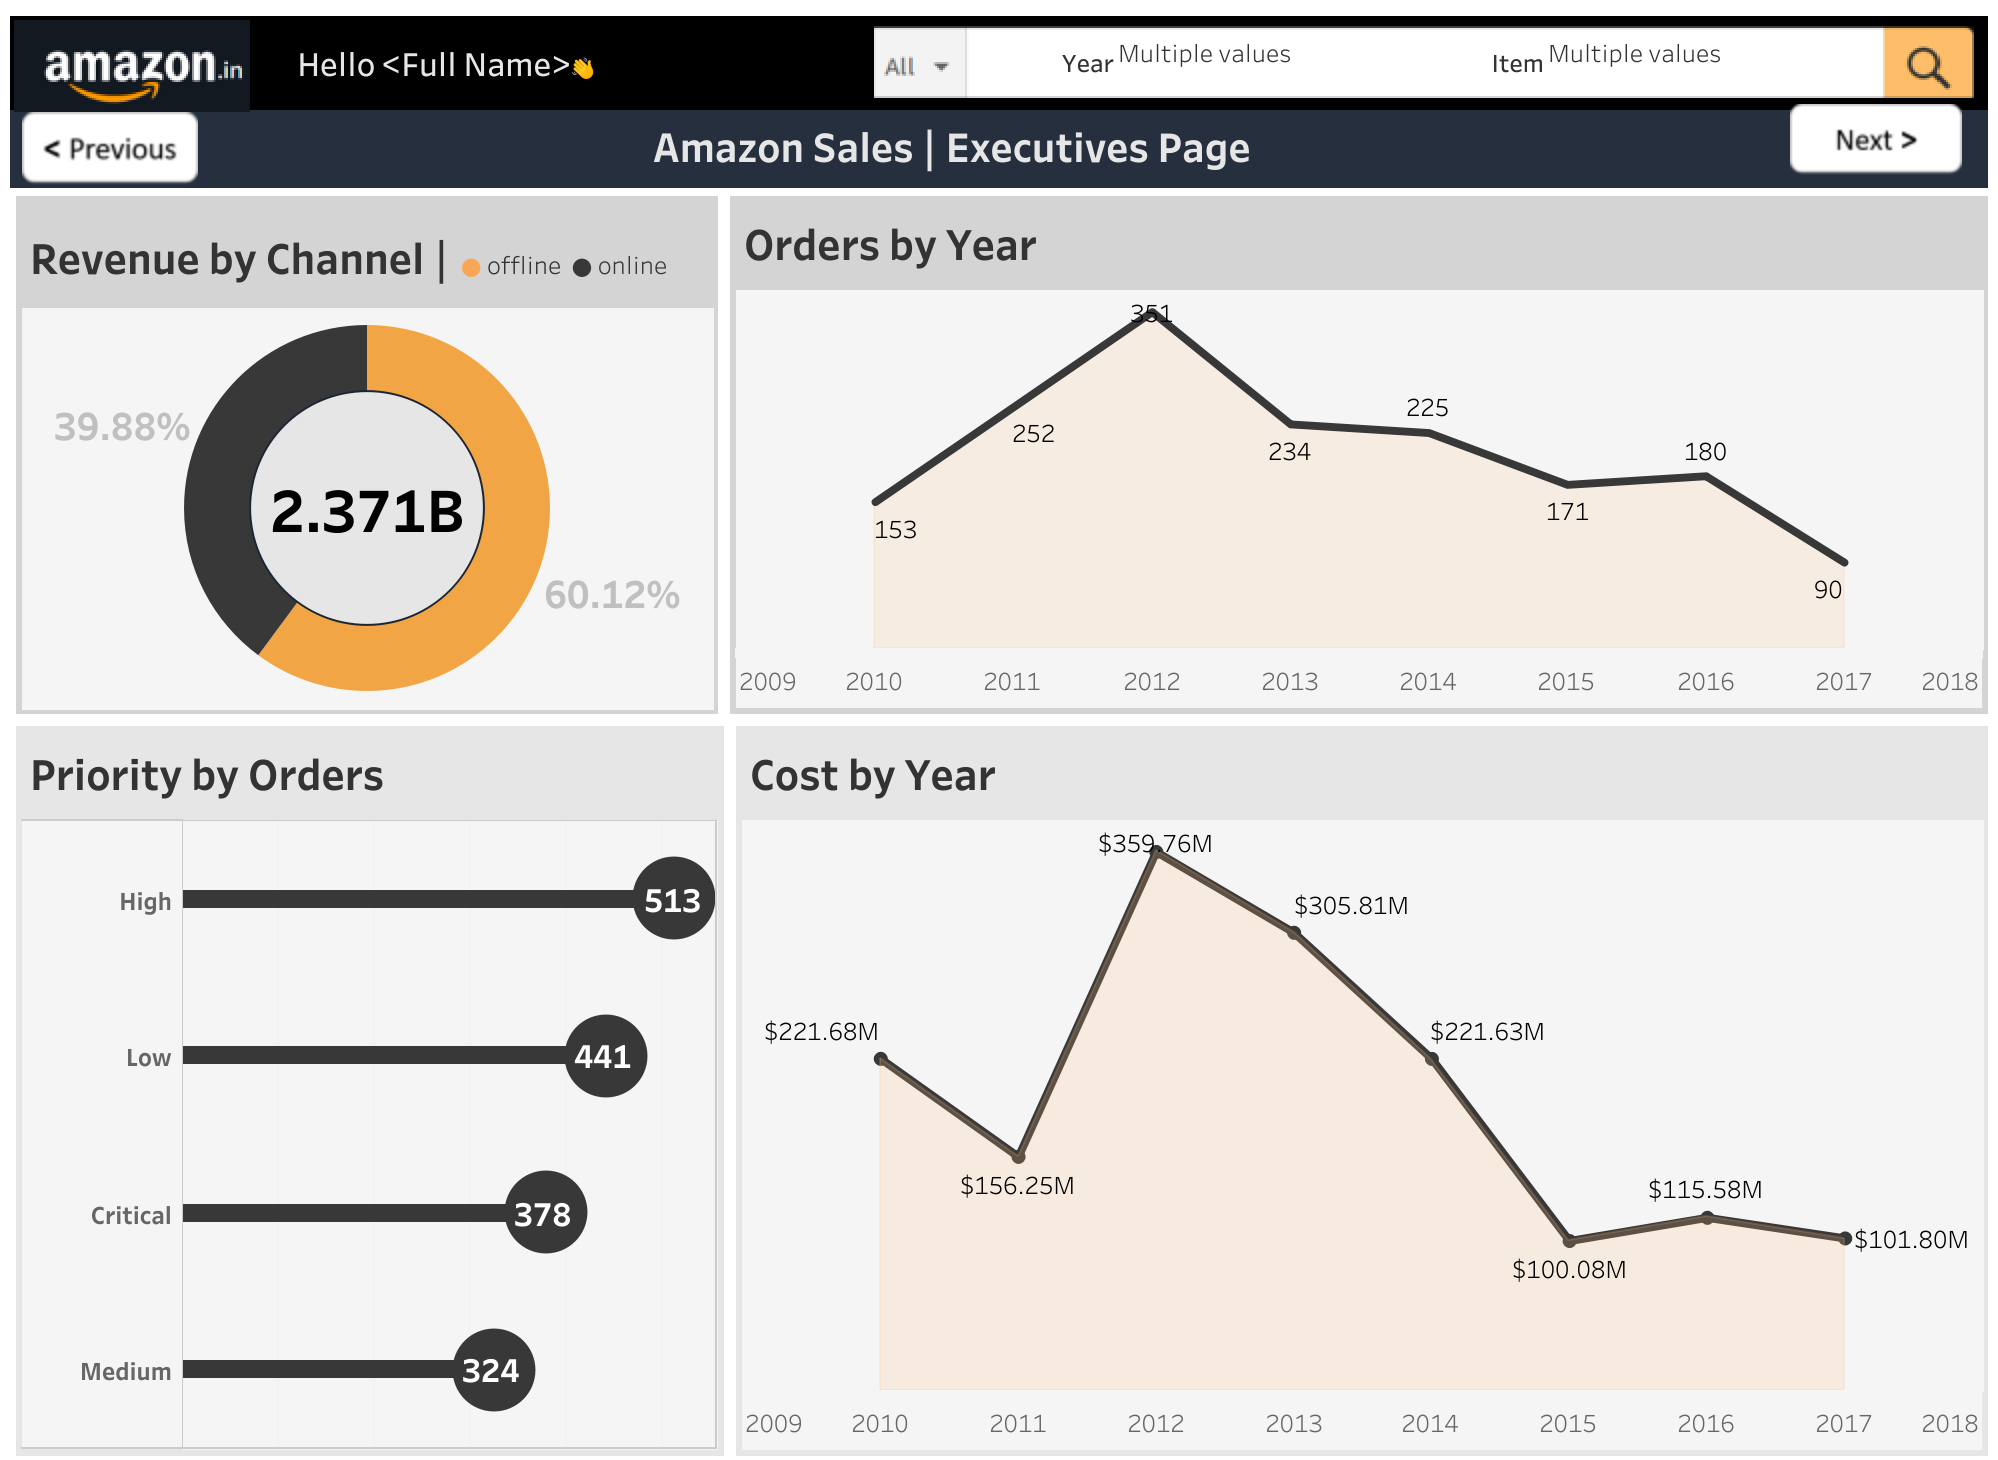

The dashboard page shown, as its layout file describes it:
{"tool":"tableau","page":{"name":"Executives page","canvas":[1000,1000],"units":"permille","ordinal":0},"visuals":[{"type":"blank","box":[5,10.4,989,68.9]},{"type":"image","param":"Image/Picture3.png","box":[7,13,126,63.7]},{"type":"image","param":"Image/Picture5.png","box":[437,18.2,550,50.7]},{"type":"text","box":[146,20.8,268,44.2]},{"type":"filter","title":"Revenue by Channel","param":"[federated.19u0zzm1pls46y15sogb60rjh778].[yr:Order Date:ok]","box":[485,23.4,209,37.7]},{"type":"filter","title":"Revenue by Channel","param":"[federated.19u0zzm1pls46y15sogb60rjh778].[none:Item Type:nk]","box":[700,23.4,237,37.7]},{"type":"dashboard-object","box":[889,71.5,99,52]},{"type":"blank","box":[5,75.4,989,53.3]},{"type":"dashboard-object","box":[6,77.3,99,53]},{"type":"text","box":[259,77.3,434,43.9]},{"type":"worksheet","title":"Revenue by Channel","mark":"Pie","cols":["Calculation_2238500133671555079","Calculation_2238500133671657481"],"box":[5,130,357,375.9]},{"type":"worksheet","title":"Orders by Year","mark":"Area","rows":["Calculation_2334764575726743554","Calculation_2334764575726743554"],"cols":["Order Date"],"box":[362,130,635,375.9]},{"type":"worksheet","title":"Priority by Orders","mark":"Automatic","rows":["Order Priority"],"cols":["Calculation_2334764575726743554","Calculation_2334764575726743554"],"box":[5,505.9,360.4,494.1]},{"type":"worksheet","title":"Cost by Year","mark":"Automatic","rows":["Total Cost","Total Cost"],"cols":["Ship Date"],"box":[365.4,505.9,631.6,494.1]}]}

Visuals, with their boxes on the dashboard's canvas, which has no fixed pixel size, in thousandths of its width and height (x1, y1, x2, y2). These are canvas units, not pixel positions in the 1998x1460 screenshot, which may show the page scaled, cropped or inside an application window:
blank: {"left": 5, "top": 10, "right": 994, "bottom": 79}
image: {"left": 7, "top": 13, "right": 133, "bottom": 77}
image: {"left": 437, "top": 18, "right": 987, "bottom": 69}
text: {"left": 146, "top": 21, "right": 414, "bottom": 65}
"Revenue by Channel" filter: {"left": 485, "top": 23, "right": 694, "bottom": 61}
"Revenue by Channel" filter: {"left": 700, "top": 23, "right": 937, "bottom": 61}
dashboard-object: {"left": 889, "top": 72, "right": 988, "bottom": 124}
blank: {"left": 5, "top": 75, "right": 994, "bottom": 129}
dashboard-object: {"left": 6, "top": 77, "right": 105, "bottom": 130}
text: {"left": 259, "top": 77, "right": 693, "bottom": 121}
"Revenue by Channel" worksheet (Pie marks): {"left": 5, "top": 130, "right": 362, "bottom": 506}
"Orders by Year" worksheet (Area marks): {"left": 362, "top": 130, "right": 997, "bottom": 506}
"Priority by Orders" worksheet: {"left": 5, "top": 506, "right": 365, "bottom": 1000}
"Cost by Year" worksheet: {"left": 365, "top": 506, "right": 997, "bottom": 1000}
